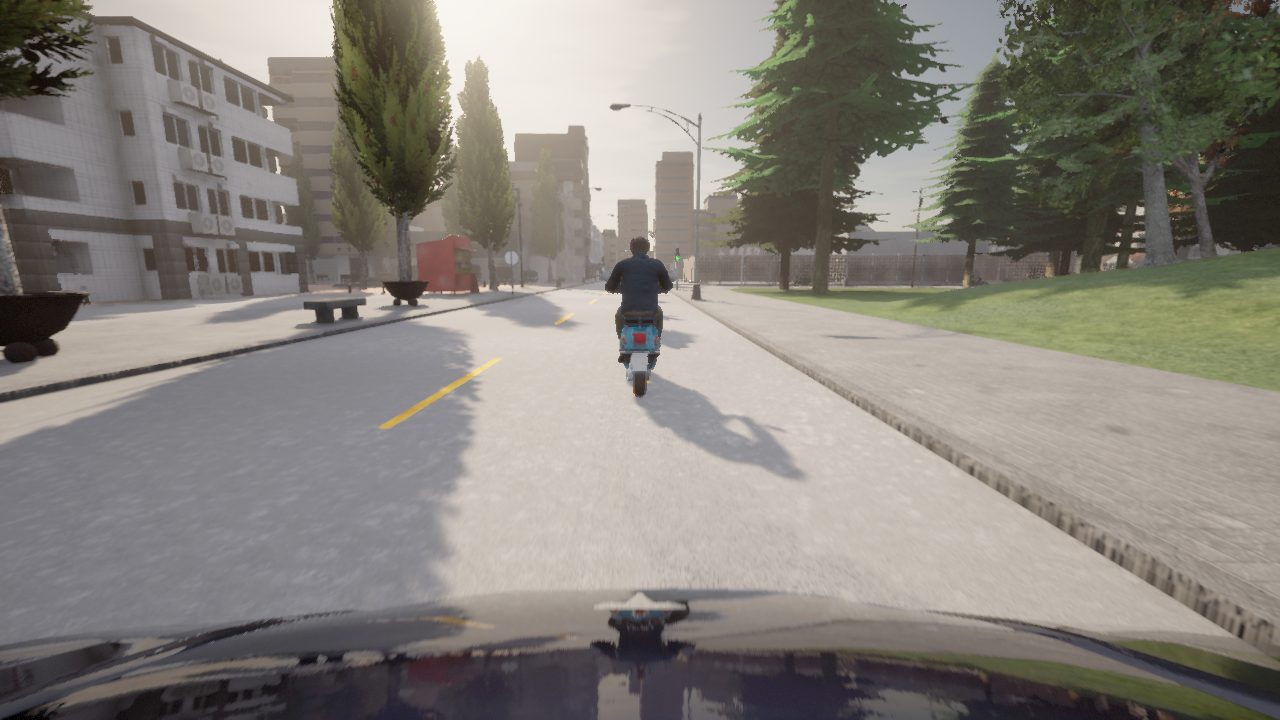cyclist: (0, 588, 1279, 719), (602, 271, 677, 396), (793, 274, 813, 286), (961, 277, 987, 286), (766, 271, 779, 277), (737, 271, 744, 277), (722, 269, 726, 277), (798, 272, 802, 276), (1032, 276, 1038, 278)
